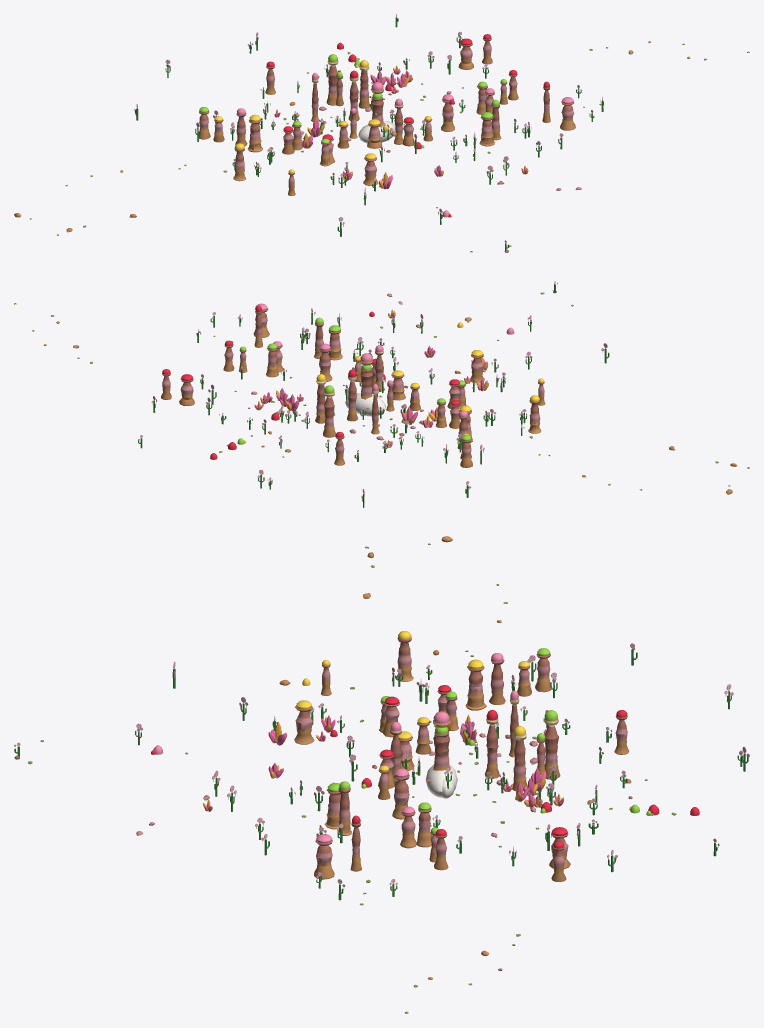
File: sugarloaf_kit_pass6_c.fbx
3 renders of one model, top to bottom at view 1: azimuth 30°, elevation 25°; view 2: azimuth 150°, elevation 25°; view 3: azimuth 270°, elevation 25°, orthographic. The views are drawn at different scales.
Visible parts, largest first — view 1: hoodoos_south__Strata, hoodoos_north__Strata, hoodoos_mid__Strata, narrows_crystals__CandyPink, cacti_taffy_south__Cactus, cacti_taffy_north__Cactus, narrows_crystals__CandyAmber, cacti_floor__Cactus; view 2: hoodoos_south__Strata, hoodoos_north__Strata, hoodoos_mid__Strata, narrows_crystals__CandyPink, cacti_taffy_south__Cactus, cacti_taffy_north__Cactus, narrows_crystals__CandyAmber, sugar_dune_cap_b__PowderSugar, cacti_crown__Cactus; view 3: hoodoos_south__Strata, hoodoos_north__Strata, hoodoos_mid__Strata, narrows_crystals__CandyPink, cacti_taffy_south__Cactus, cacti_taffy_north__Cactus.
Boxes of the visible parts, x1,y1,x2,y2 form: hoodoos_south__Strata: (199, 66, 575, 195); hoodoos_north__Strata: (213, 37, 495, 186); hoodoos_mid__Strata: (233, 43, 518, 181); narrows_crystals__CandyPink: (274, 68, 528, 189); cacti_taffy_south__Cactus: (135, 60, 594, 251); cacti_taffy_north__Cactus: (195, 17, 562, 236); narrows_crystals__CandyAmber: (276, 65, 527, 188); cacti_floor__Cactus: (232, 36, 603, 176); hoodoos_south__Strata: (253, 308, 545, 467); hoodoos_north__Strata: (161, 330, 484, 459); hoodoos_mid__Strata: (179, 344, 541, 442); narrows_crystals__CandyPink: (254, 312, 487, 446); cacti_taffy_south__Cactus: (197, 283, 555, 507); cacti_taffy_north__Cactus: (138, 312, 609, 489); narrows_crystals__CandyAmber: (257, 309, 488, 445); sugar_dune_cap_b__PowderSugar: (345, 393, 386, 416); cacti_crown__Cactus: (200, 331, 502, 446); hoodoos_south__Strata: (314, 653, 629, 879); hoodoos_north__Strata: (294, 659, 566, 881); hoodoos_mid__Strata: (378, 637, 570, 870); narrows_crystals__CandyPink: (204, 715, 563, 811); cacti_taffy_south__Cactus: (14, 648, 731, 896); cacti_taffy_north__Cactus: (172, 662, 748, 856).
Bounding box in the file's own units: 62758 × 5347 × 41150.
Materials: 163 (64 with a texture image).
